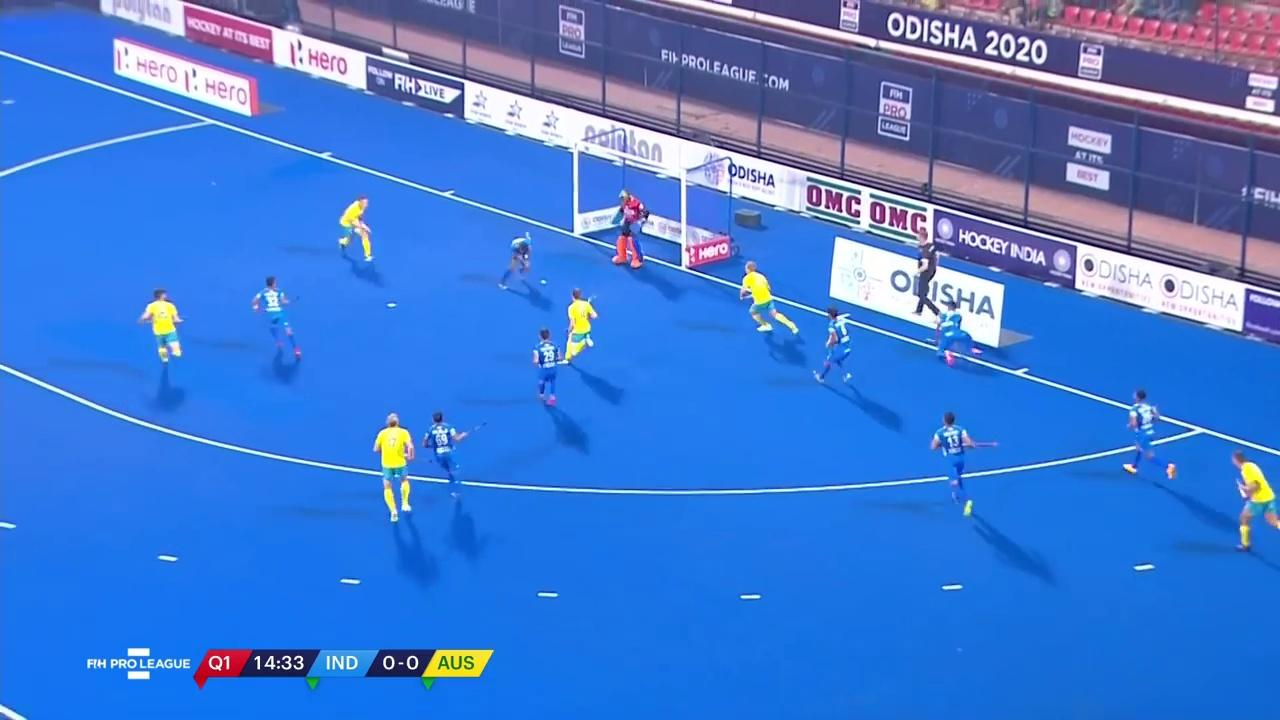ball: (537, 276, 549, 288)
